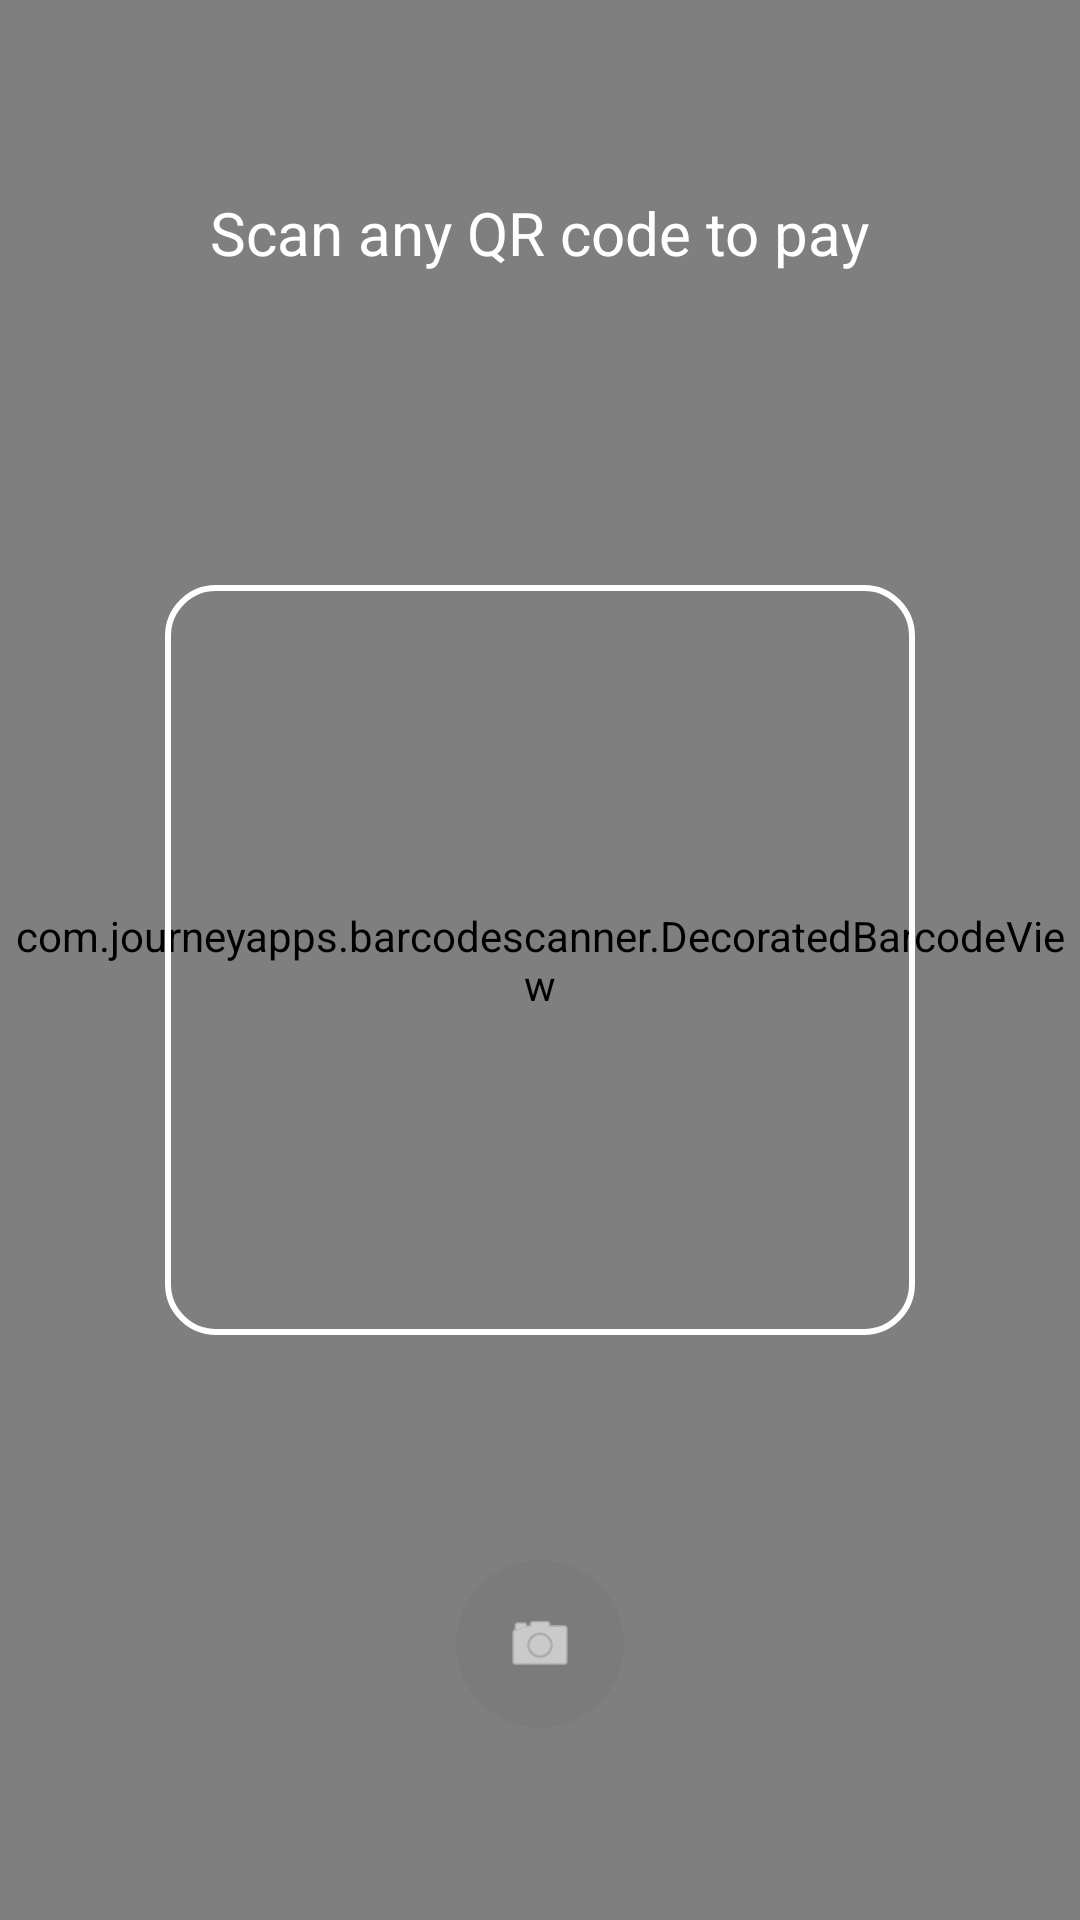

Named icons in this screenshot (1080x1920) and their centers, [x,y]:
camera: [540,1643]
